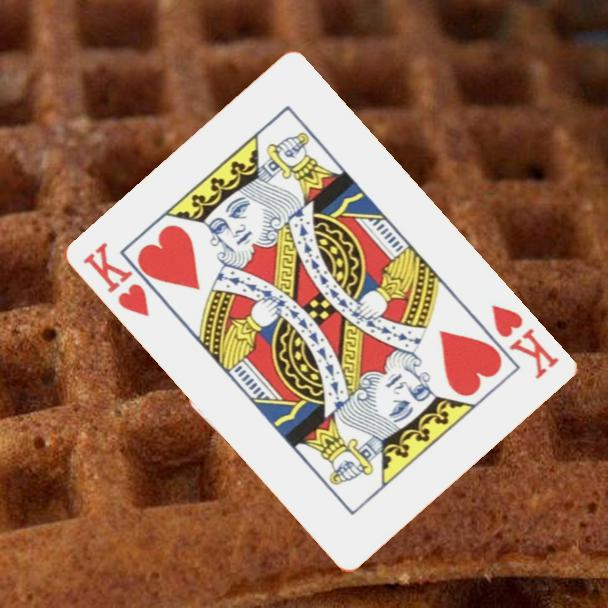h13: (487, 301, 562, 383), (78, 238, 152, 320)
